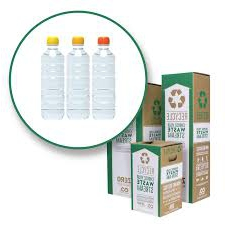plastic water bottle: (90, 33, 119, 122), (38, 33, 65, 121), (66, 34, 92, 122)
